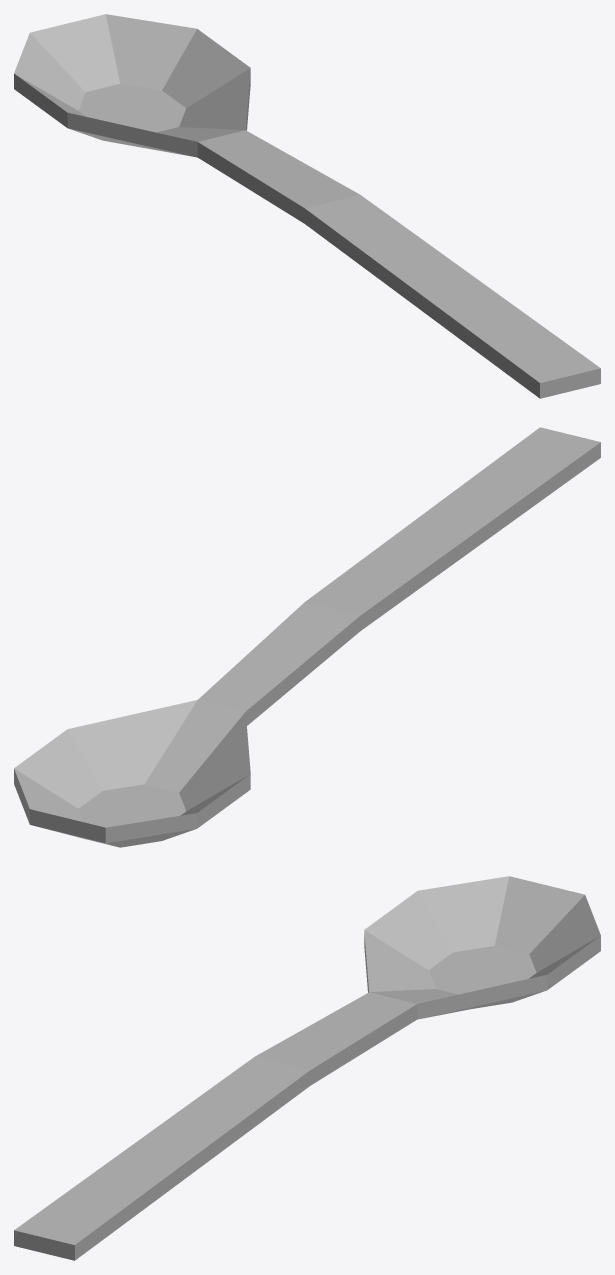
The model's file is Spoon_01.fbx.
The picture shows the model from 3 angles, top to bottom: view 1: azimuth 30°, elevation 25°; view 2: azimuth 150°, elevation 25°; view 3: azimuth 330°, elevation 25°; orthographic projection.
Parts seen in each view (by area): view 1: Spoon_01; view 2: Spoon_01; view 3: Spoon_01.
Part boxes in pixels (x1,y1,x2,y2): Spoon_01: (14, 14, 600, 398); Spoon_01: (14, 427, 600, 847); Spoon_01: (14, 876, 600, 1260).
Bounding box in the file's own units: 2.94 × 1.02 × 13.96.
